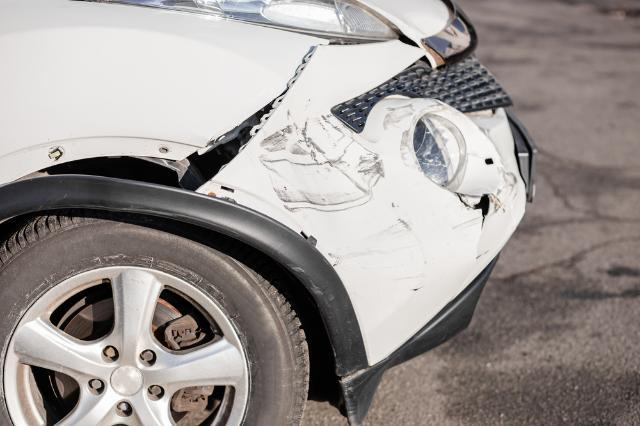crack: (455, 192, 489, 232)
dislocated part: (0, 43, 525, 368)
scratch: (258, 118, 383, 212), (383, 95, 417, 172)
